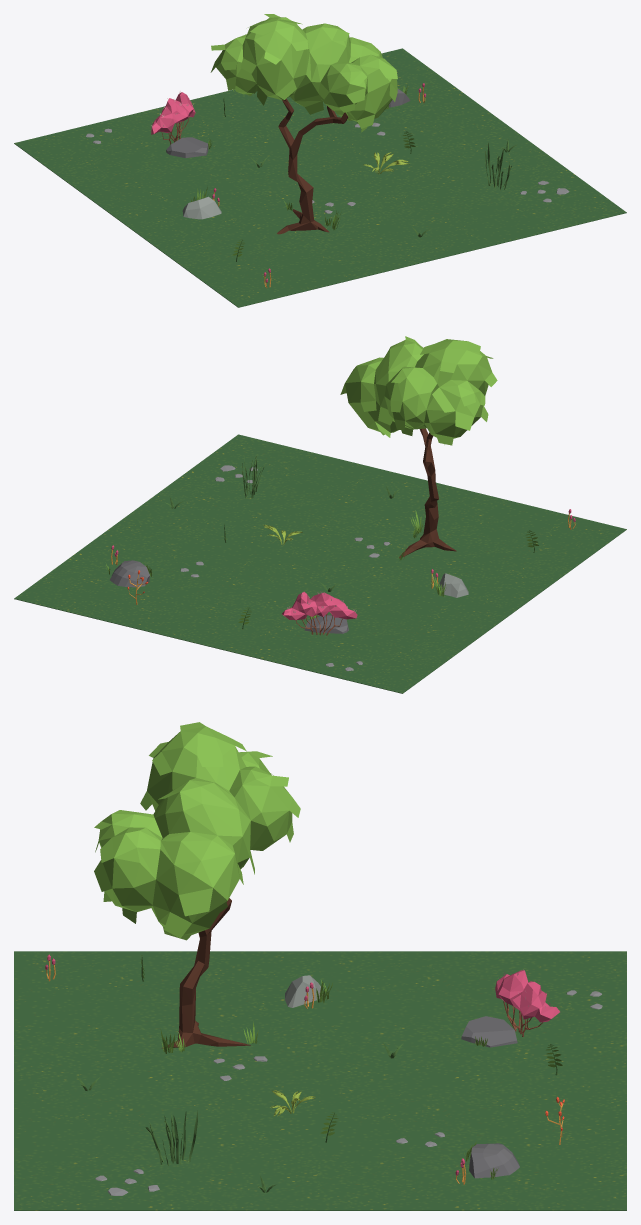
3 views of the same model, one above another, from view 1: azimuth 30°, elevation 25°; view 2: azimuth 150°, elevation 25°; view 3: azimuth 270°, elevation 25° (orthographic). The views are drawn at different scales.
Visible parts, largest first — view 1: EP_07; view 2: EP_07; view 3: EP_07.
Part boxes in pixels (x1,y1,x2,y2): EP_07: [14, 14, 626, 307]; EP_07: [14, 336, 626, 693]; EP_07: [14, 722, 626, 1210].
Size of what is drawn, in the model's own units: 16 by 8.59 by 16.
Materials: 1 (1 with a texture image).
